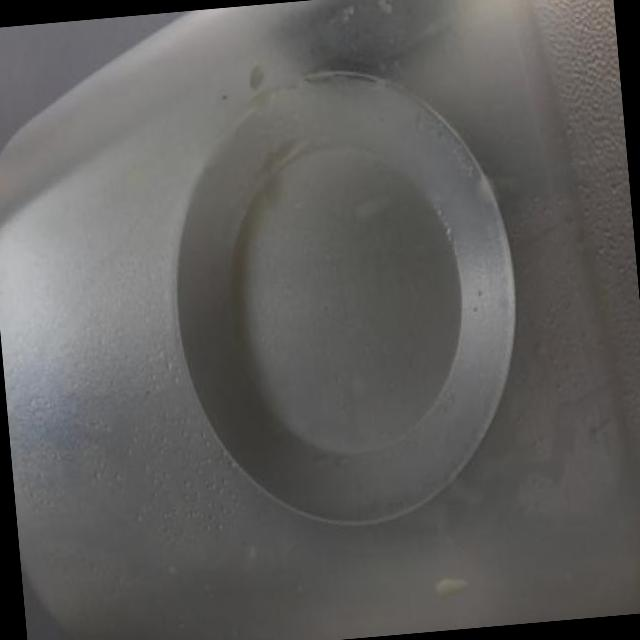Recycle: (152, 54, 542, 546)
